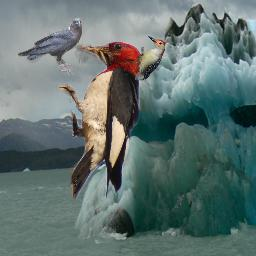Crow: (18, 18, 82, 75)
Woodpecker: (59, 41, 143, 202), (135, 36, 165, 80)
